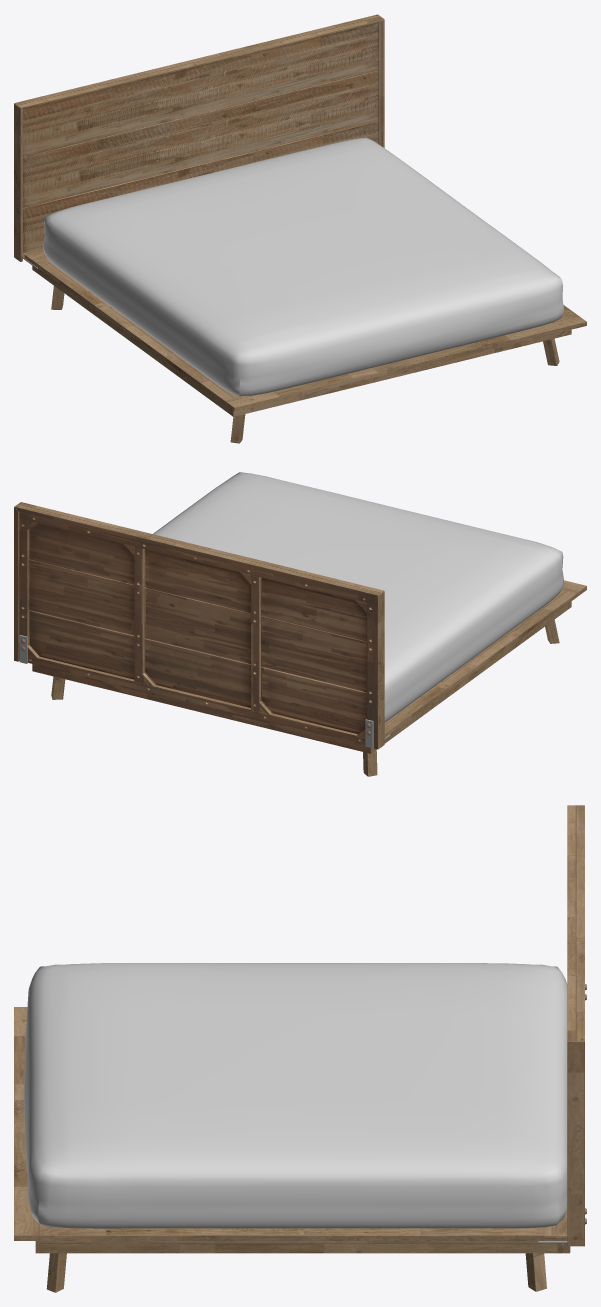
Rendered from B07HSL882C.glb.
The picture shows the model from 3 angles, top to bottom: view 1: azimuth 30°, elevation 25°; view 2: azimuth 150°, elevation 25°; view 3: azimuth 270°, elevation 25°; orthographic projection. The views are drawn at different scales.
Parts seen in each view (by area): view 1: RootNode; view 2: RootNode; view 3: RootNode.
Part boxes in pixels (x1,y1,x2,y2): RootNode: [14, 14, 586, 443]; RootNode: [14, 472, 586, 776]; RootNode: [14, 805, 586, 1292].
Bounding box in the file's own units: 2.12 × 1.1 × 2.17.
1 material, 1 textured.
